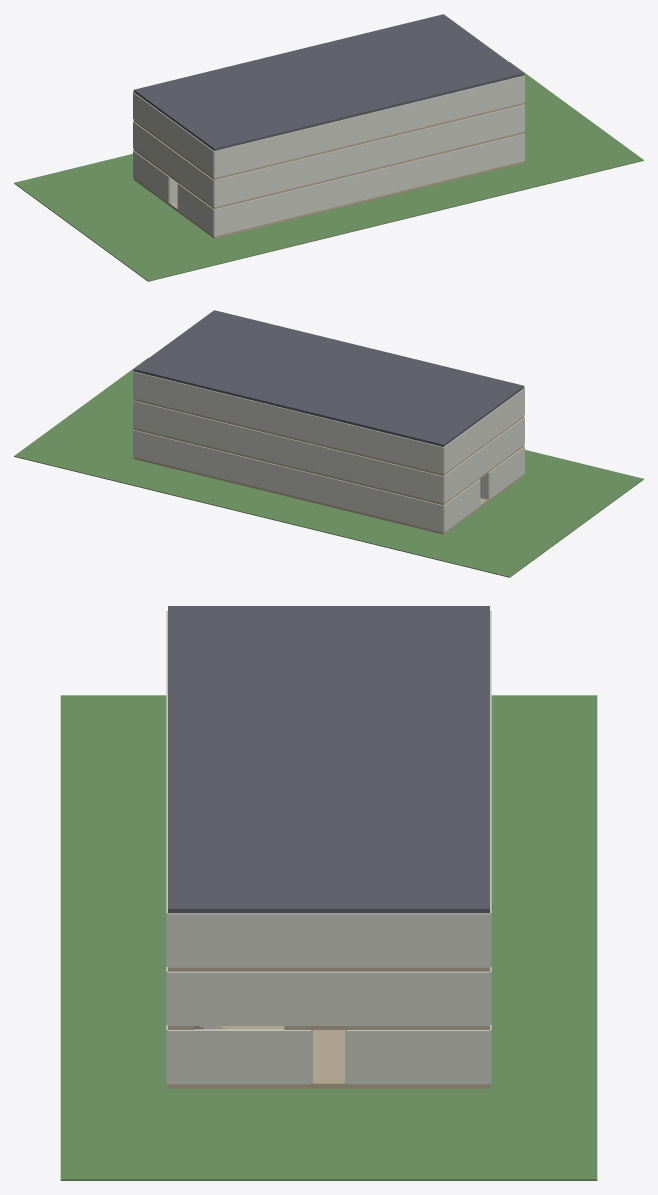
File: przyklad_szpital.obj
3 views of the same model, one above another, from view 1: azimuth 30°, elevation 25°; view 2: azimuth 150°, elevation 25°; view 3: azimuth 270°, elevation 25° (orthographic). The views are drawn at different scales.
Parts seen in each view (by area): view 1: sciana, teren, dach, podloga; view 2: sciana, teren, dach, podloga; view 3: teren, dach, sciana, podloga.
Boxes of the visible parts, <box> form: sciana: <box>133,75,524,236</box>; teren: <box>14,62,643,281</box>; dach: <box>133,14,524,150</box>; podloga: <box>133,103,524,238</box>; sciana: <box>133,371,524,532</box>; teren: <box>14,358,643,577</box>; dach: <box>133,310,524,446</box>; podloga: <box>133,399,524,534</box>; teren: <box>60,695,597,1180</box>; dach: <box>168,606,489,913</box>; sciana: <box>166,611,491,1084</box>; podloga: <box>168,967,489,1088</box>.
Bounding box in the file's own units: 64 × 11.2 × 30.
